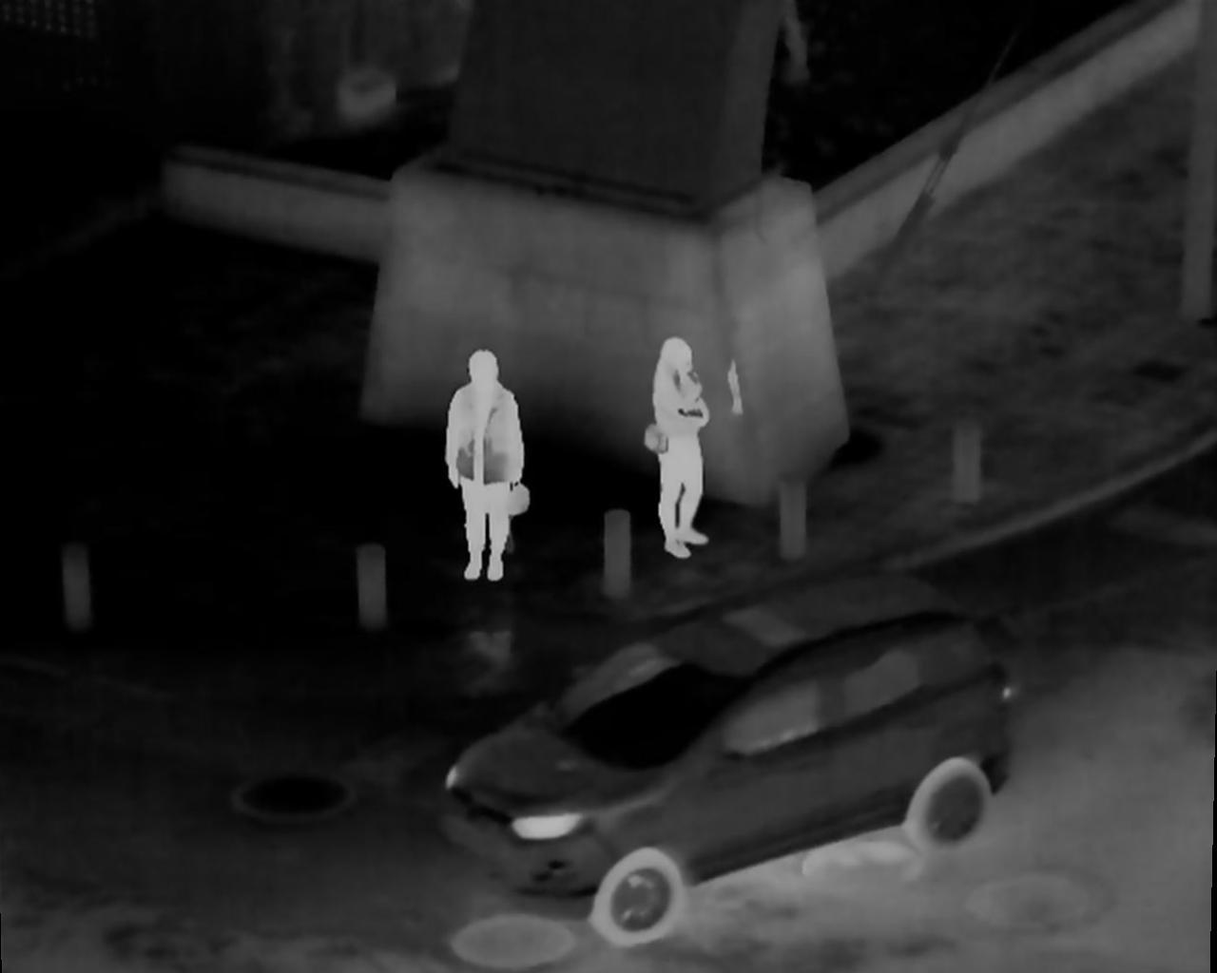person: (448, 351, 526, 585), (642, 333, 713, 565)
